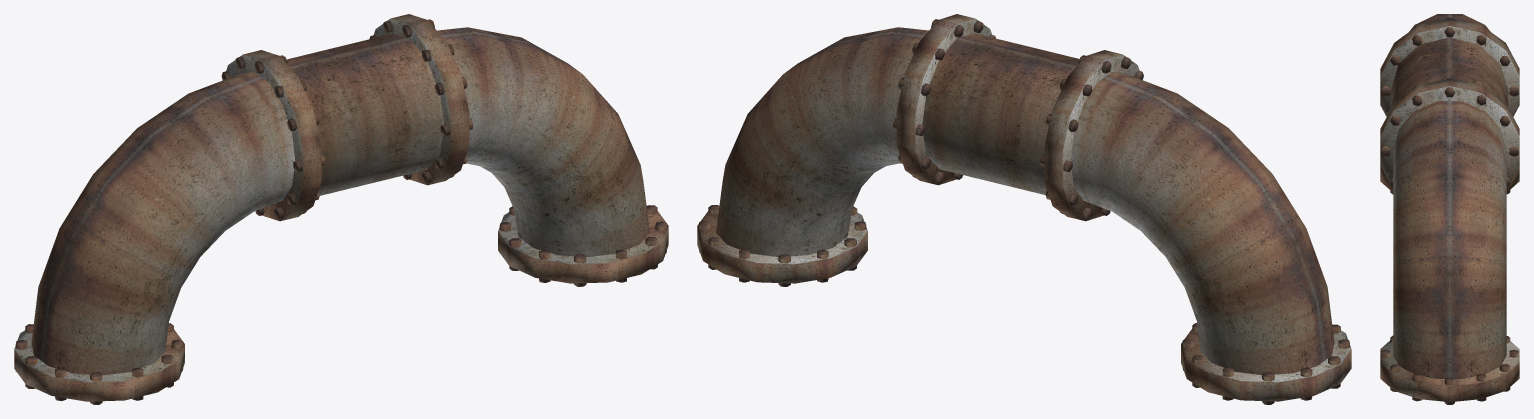
File: pipe_5.obj
3 renders of one model, left to right at view 1: azimuth 30°, elevation 25°; view 2: azimuth 150°, elevation 25°; view 3: azimuth 270°, elevation 25°, orthographic. The views are drawn at different scales.
Parts seen in each view (by area): view 1: pipe_5.obj; view 2: pipe_5.obj; view 3: pipe_5.obj.
Part boxes in pixels (x1,y1,x2,y2): pipe_5.obj: [14, 14, 668, 404]; pipe_5.obj: [697, 14, 1351, 404]; pipe_5.obj: [1380, 14, 1519, 404].
Size of the model in its own units: 5.32 by 2.17 by 1.22.
Materials: 1 (1 with a texture image).
